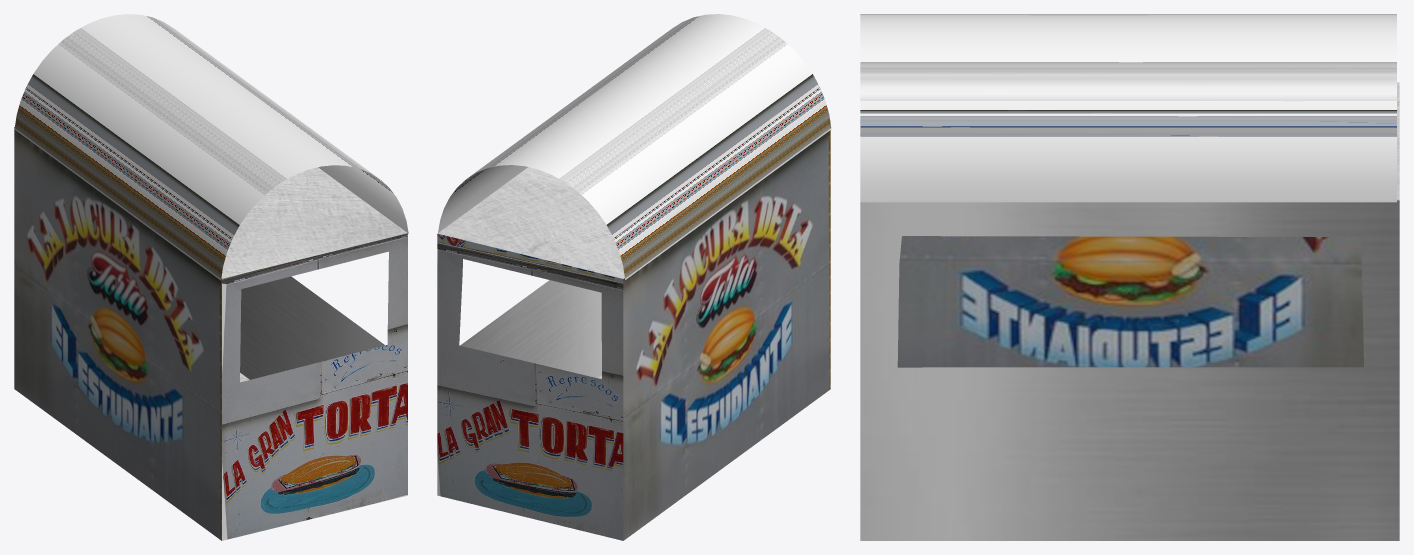
Rendered from puesto tortas supremo.obj.
3 renders of one model, left to right at view 1: azimuth 30°, elevation 25°; view 2: azimuth 150°, elevation 25°; view 3: azimuth 270°, elevation 25°, orthographic. The views are drawn at different scales.
Visible parts, largest first — view 1: Box002, Arc001; view 2: Box002, Arc001; view 3: Box002, Arc001.
Boxes of the visible parts, <box> form: Box002: <box>14,126,407,540</box>; Arc001: <box>14,14,408,280</box>; Box002: <box>437,130,830,540</box>; Arc001: <box>438,14,831,279</box>; Box002: <box>860,82,1399,540</box>; Arc001: <box>860,14,1396,202</box>.
Size of the model in its own units: 4.35 by 7.76 by 8.34.
